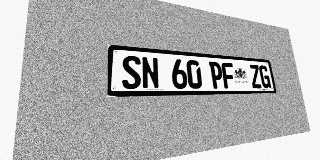0: (186, 60, 202, 89)
6: (171, 59, 188, 89)
F: (221, 62, 236, 88)
G: (258, 65, 271, 88)
N: (141, 56, 160, 89)
P: (209, 61, 224, 89)
S: (122, 55, 142, 89)
Z: (249, 64, 262, 88)
